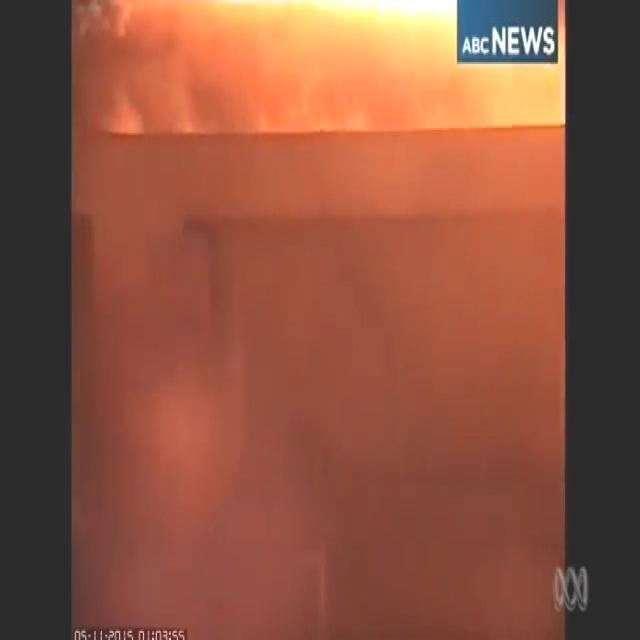fire: (71, 0, 457, 140), (458, 64, 566, 134)
smoke: (86, 163, 558, 587)
